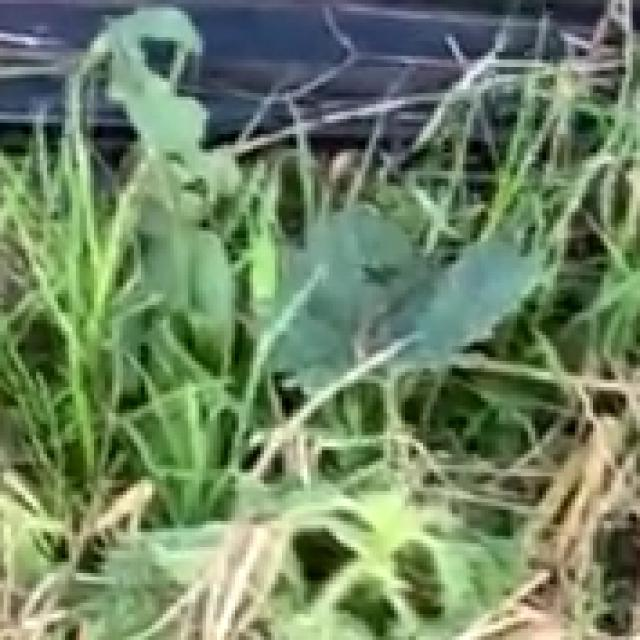organic waste: (47, 0, 560, 536)
